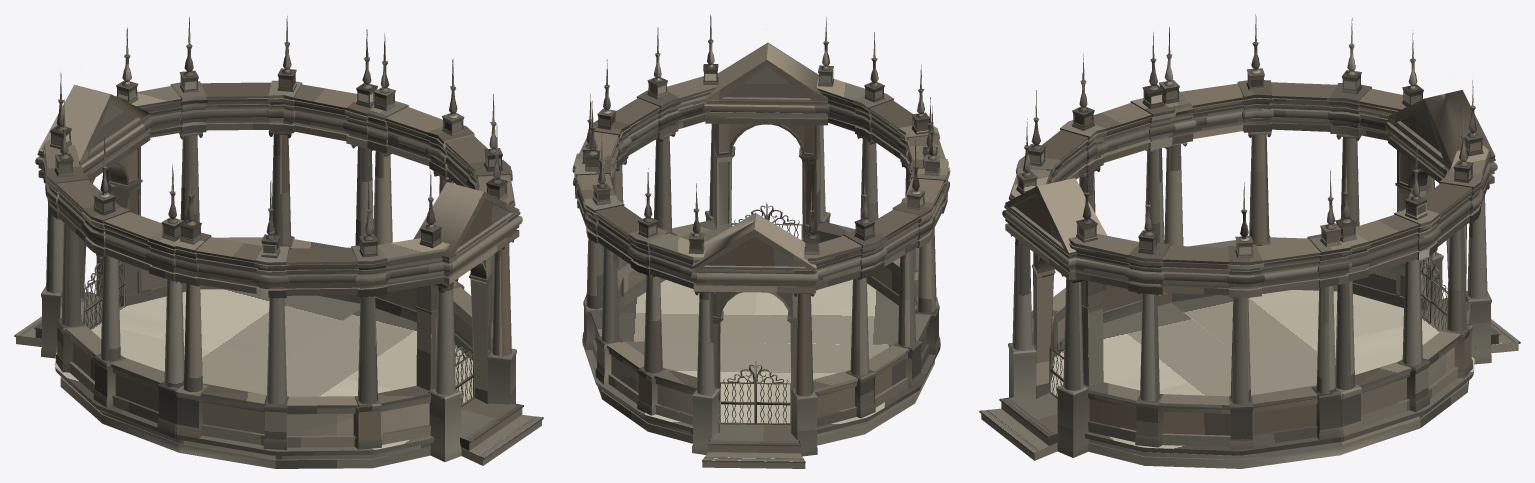
3 renders of one model, left to right at view 1: azimuth 30°, elevation 25°; view 2: azimuth 150°, elevation 25°; view 3: azimuth 270°, elevation 25°, orthographic. The views are drawn at different scales.
Visible parts, largest first — view 1: Altar_Altar Material_0, Altar_Altar Material_0.001; view 2: Altar_Altar Material_0.001, Altar_Altar Material_0; view 3: Altar_Altar Material_0, Altar_Altar Material_0.001.
Boxes of the visible parts, <box> form: Altar_Altar Material_0: <box>171,33,543,468</box>; Altar_Altar Material_0.001: <box>14,16,377,452</box>; Altar_Altar Material_0.001: <box>574,100,950,468</box>; Altar_Altar Material_0: <box>572,14,948,348</box>; Altar_Altar Material_0: <box>979,32,1352,468</box>; Altar_Altar Material_0.001: <box>1159,14,1520,455</box>.
Bounding box in the file's own units: 2.41 × 1.77 × 3.
Materials: 1 (1 with a texture image).
